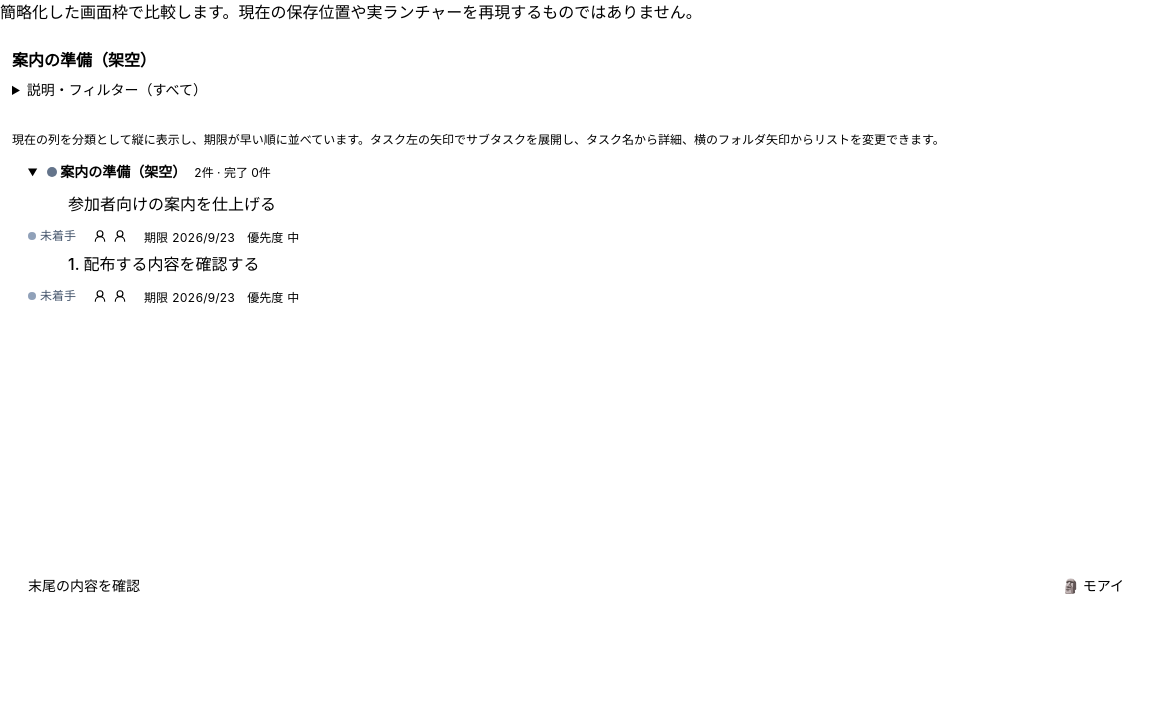
Test: additional isolated guide specimens › opens and closes the frame dialog and the docked bubble locally
The width and height of the screenshot is (1152, 720).
Click the button with aria-label "架空モアイの声かけを開閉" at (1093, 586), box [1046,568,1140,604]
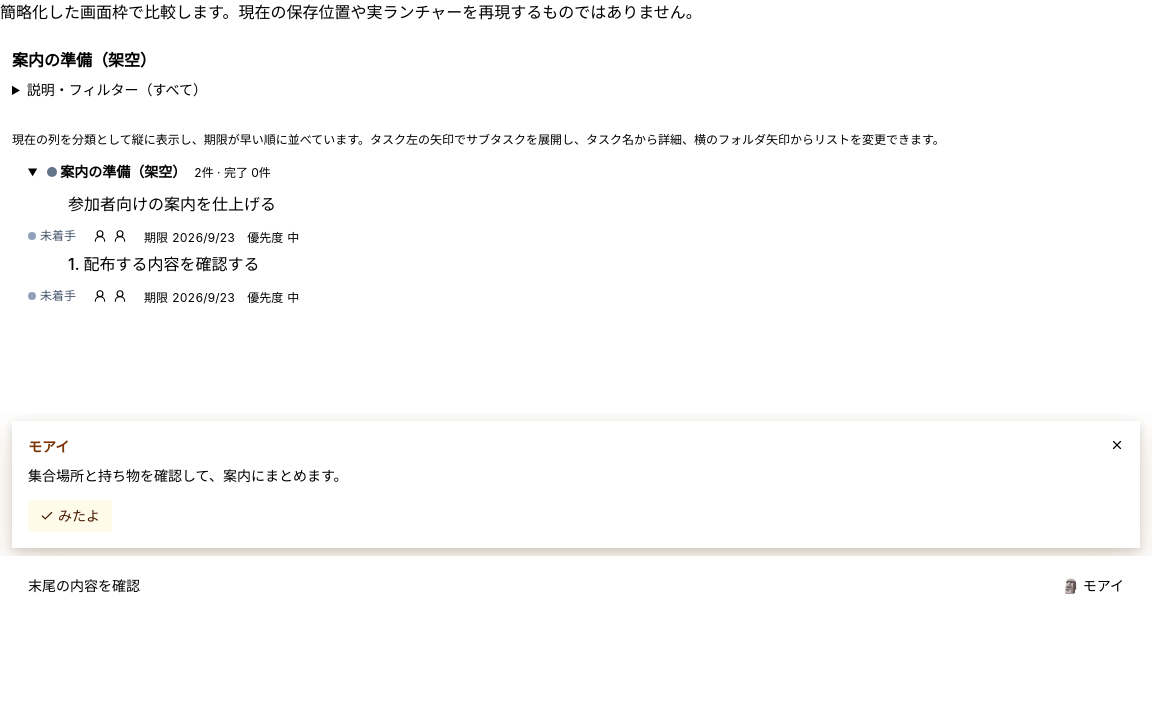
Click the button named "声かけを閉じる" at (1117, 445), box [1106,434,1128,456]
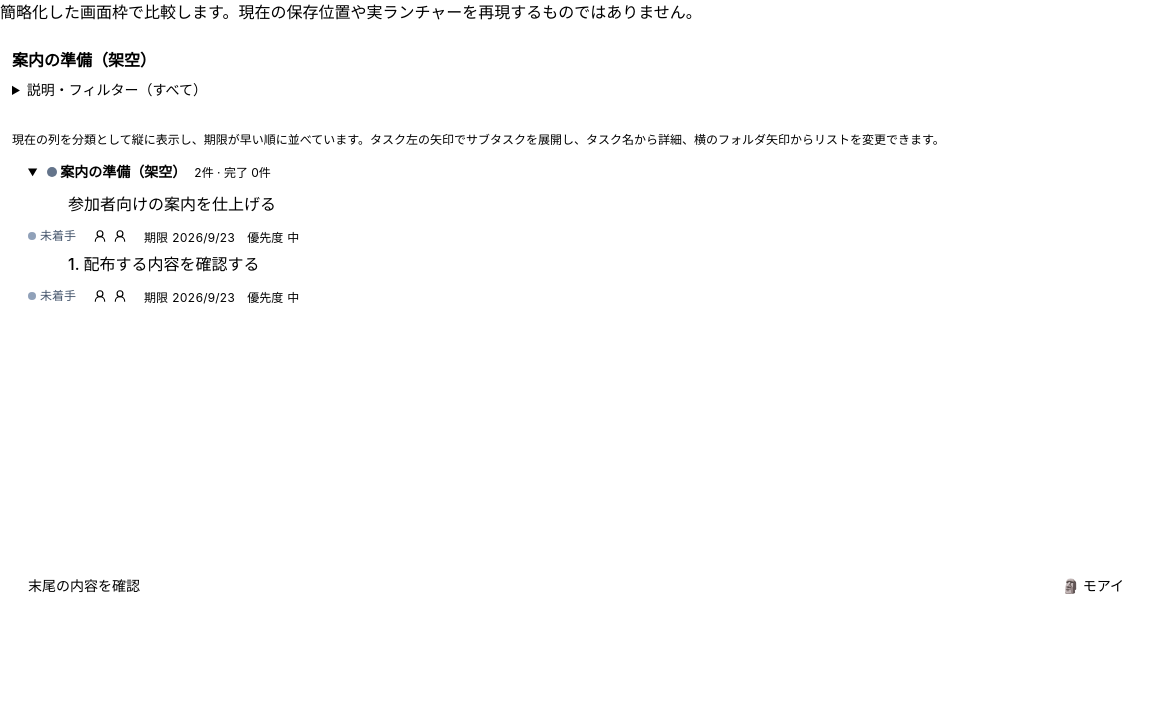
Now the button "声かけを閉じる" is gone
Click the button "末尾の内容を確認" at (84, 586), box [12,568,156,604]
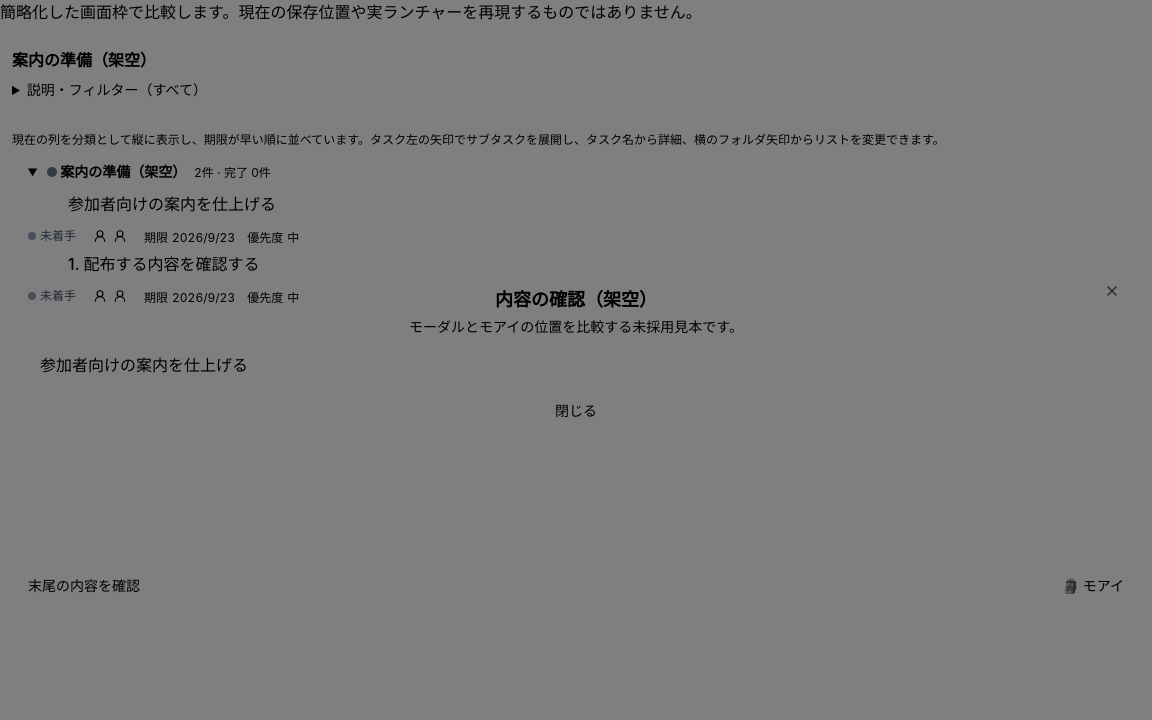
Click the button "閉じる" at (576, 411), box [40,393,1112,429]
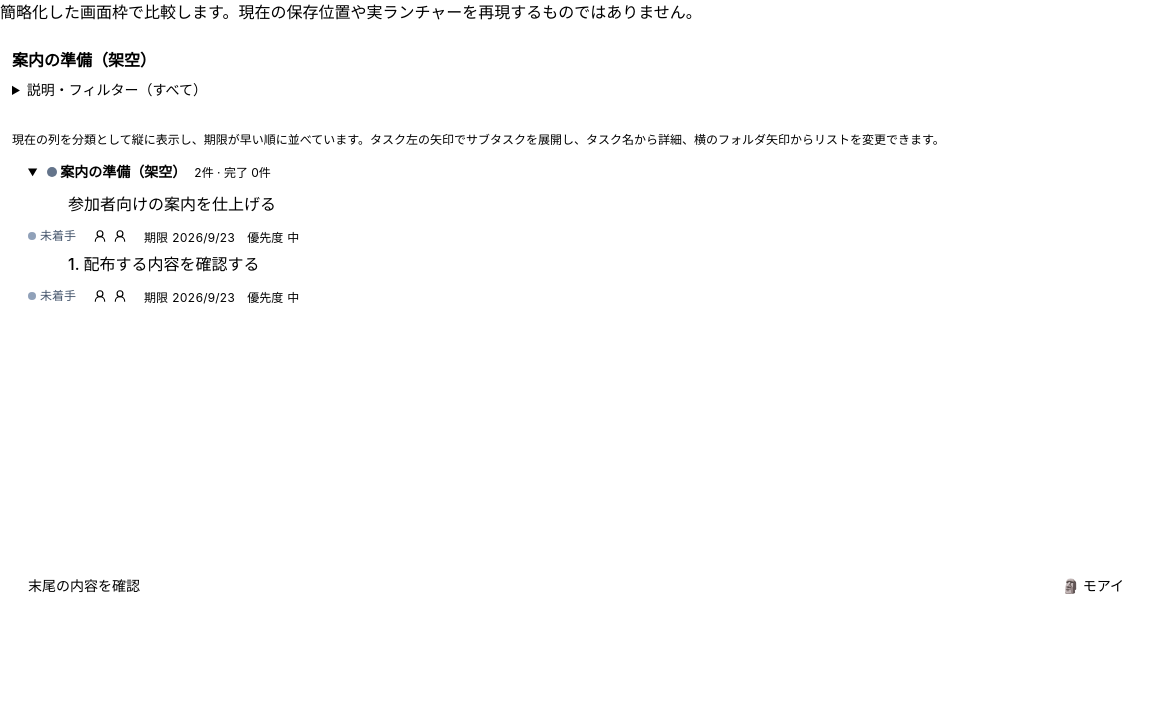
Now the dialog is gone
